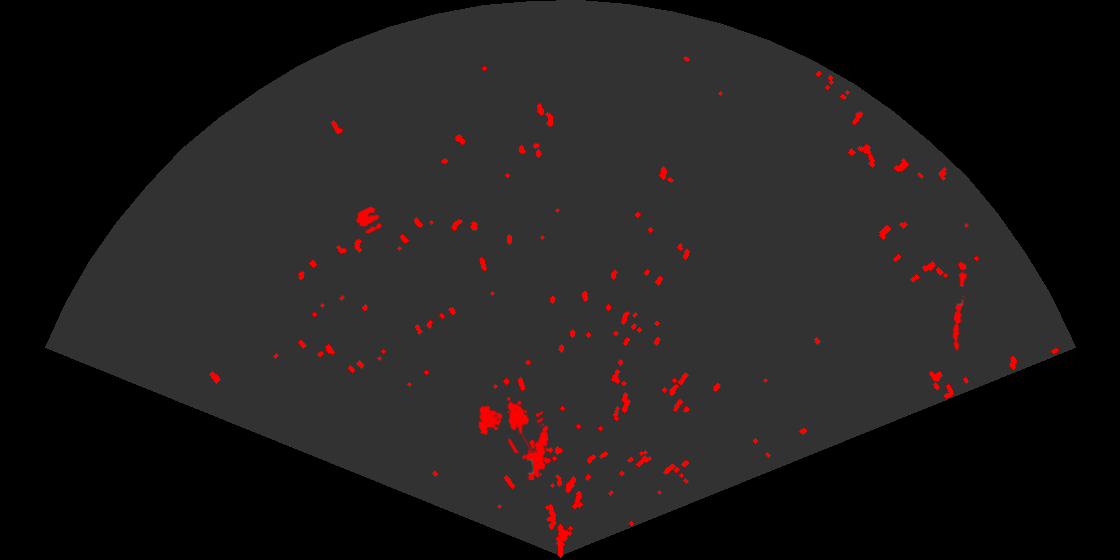ball: (354, 205, 383, 235)
cage: (477, 395, 543, 453)
chain: (951, 269, 969, 352)
frogman: (520, 423, 550, 480)
